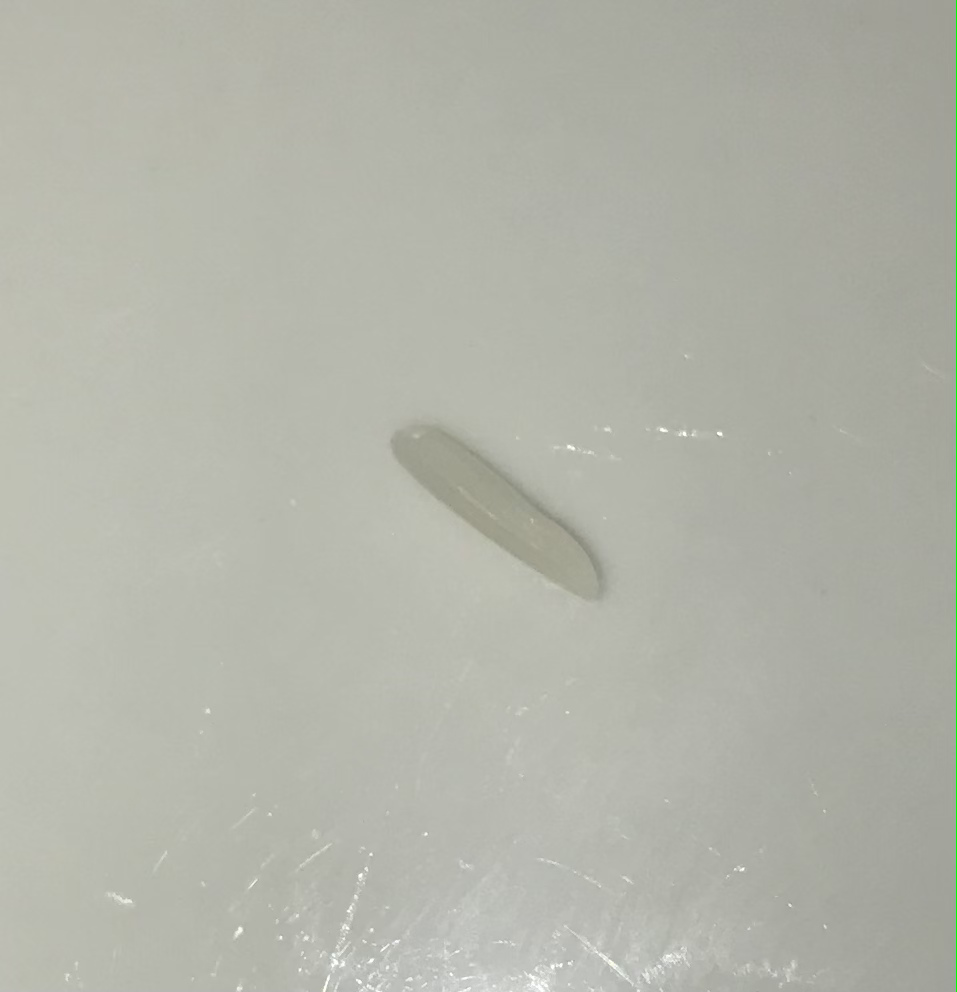Gao Thom Go Cong: (380, 401, 620, 612)
